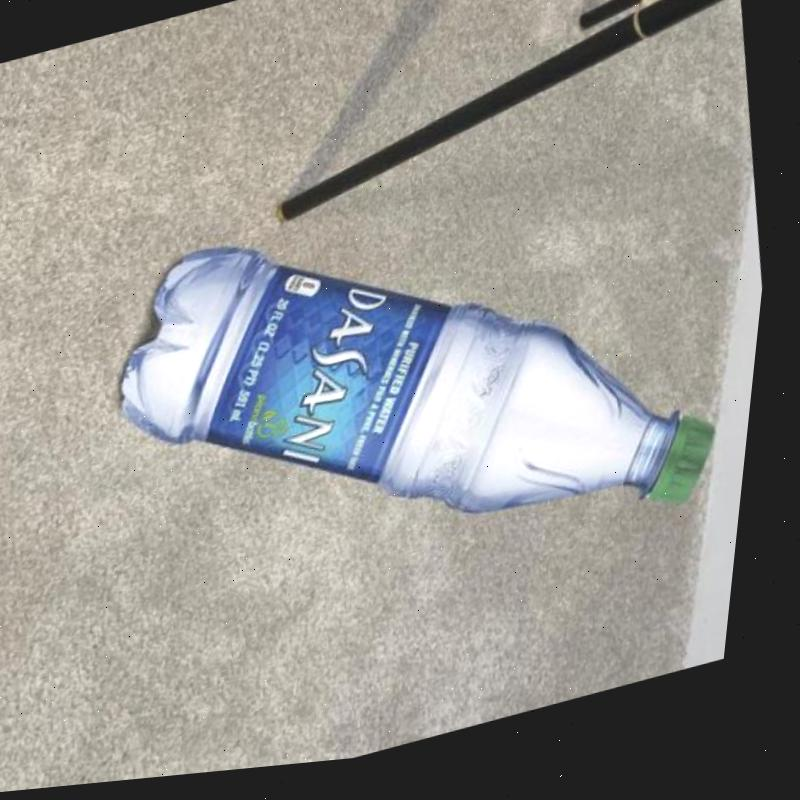botella: (87, 125, 762, 658)
